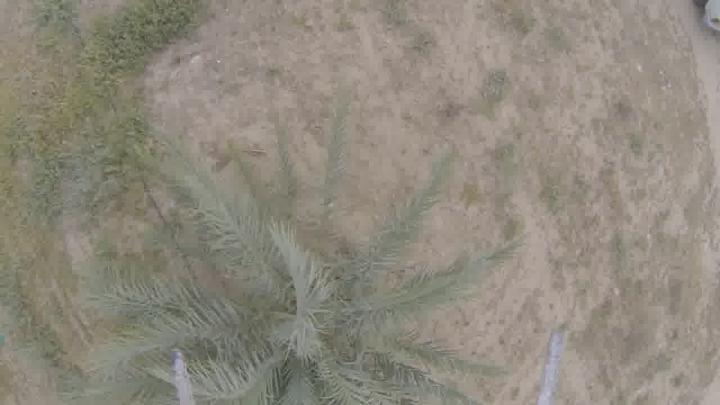Date-Palm-Crown: (188, 224, 394, 404)
